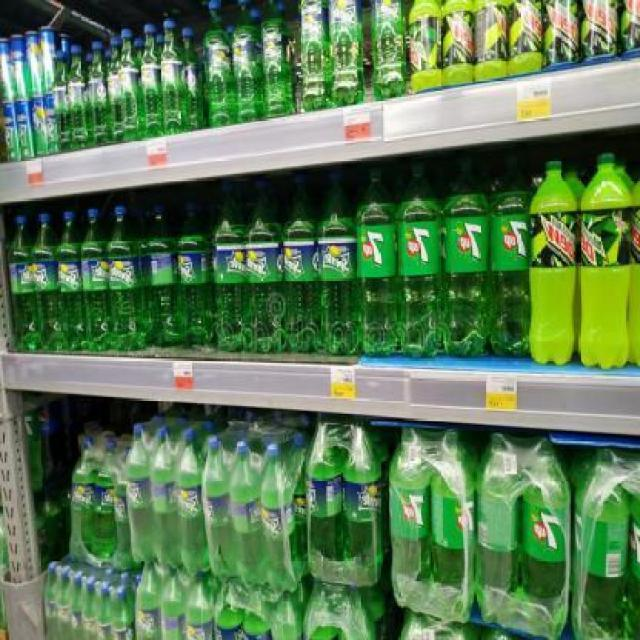Drinks: (578, 154, 634, 370), (529, 159, 580, 367), (575, 451, 631, 640), (442, 150, 490, 359), (396, 155, 444, 359), (521, 439, 572, 630), (476, 436, 522, 625), (490, 149, 530, 360), (433, 429, 476, 623), (388, 425, 432, 614), (355, 162, 397, 359), (342, 419, 386, 588), (316, 170, 354, 356), (281, 173, 317, 353), (210, 179, 247, 353), (247, 178, 283, 354), (305, 417, 343, 581), (175, 199, 211, 350), (262, 445, 298, 596), (109, 206, 146, 352), (229, 441, 261, 590), (146, 202, 177, 346), (260, 1, 297, 118), (201, 438, 230, 586), (175, 429, 203, 577), (329, 0, 365, 108), (82, 209, 108, 353), (297, 0, 330, 112), (150, 428, 176, 570), (71, 436, 100, 562), (203, 1, 232, 127), (372, 0, 408, 100), (56, 210, 80, 353), (231, 1, 259, 123), (32, 212, 56, 354), (125, 423, 149, 565), (7, 214, 31, 352), (439, 0, 473, 86), (408, 1, 440, 92), (473, 0, 507, 80), (507, 0, 541, 78), (578, 0, 619, 64), (540, 0, 578, 69)
